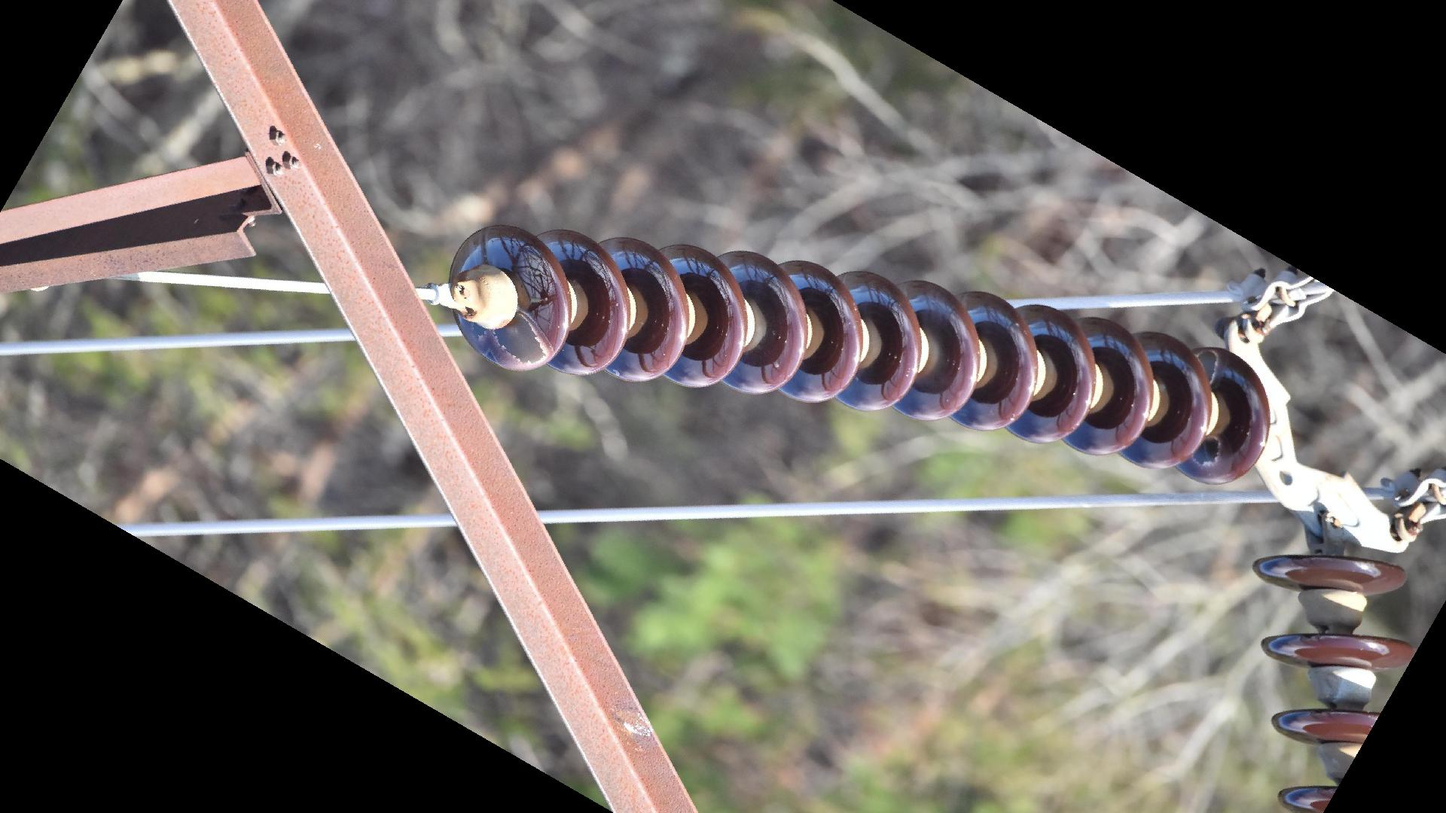insulator: (444, 220, 1275, 492), (1244, 547, 1417, 813)
insulator_flashover: (494, 306, 554, 367)
